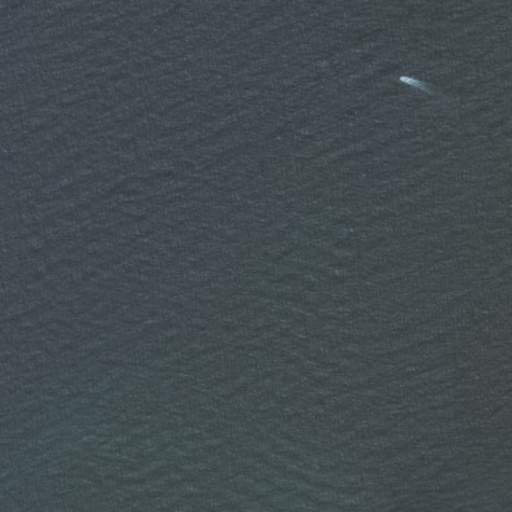ship: (397, 73, 417, 86)
